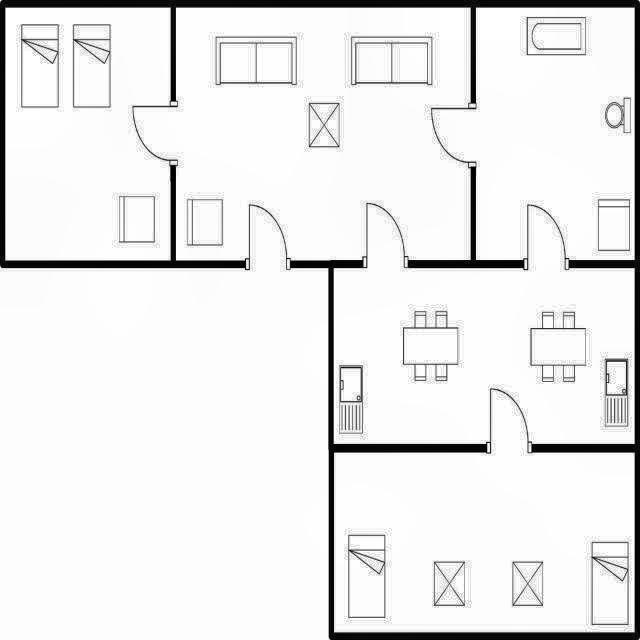room: (176, 8, 470, 260), (334, 452, 634, 633), (334, 269, 635, 444), (6, 8, 171, 260), (476, 9, 635, 260)
